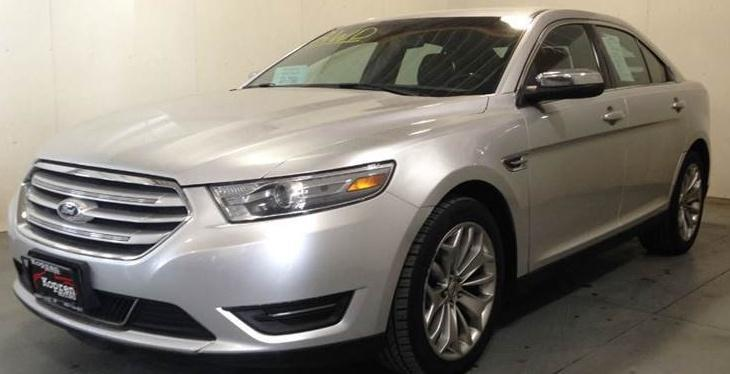Cars: (12, 11, 711, 373)
